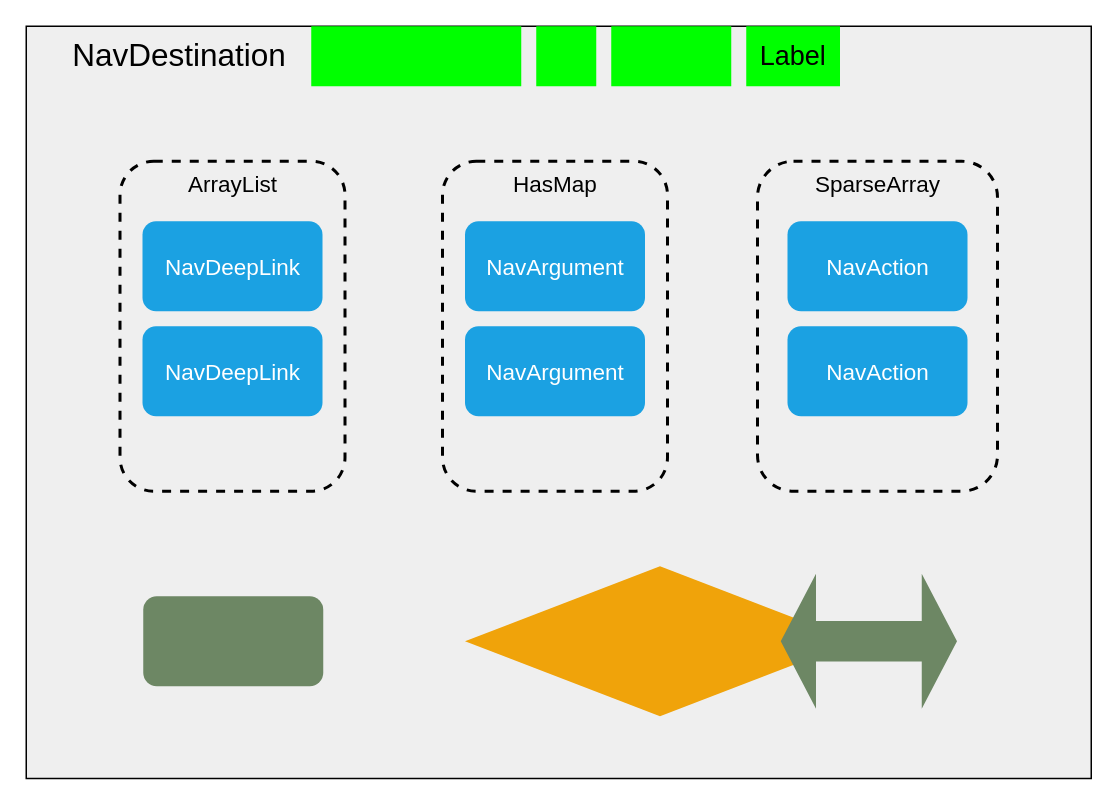
This 1118x806 diagram has some shape labels left out. Each missing label, with the centre of its shape:
"CompareTo" goes at (x=868, y=640).
"DeepLinkMatch" goes at (x=659, y=641).
"Id" goes at (x=566, y=56).
"IdName" goes at (x=670, y=56).
"NavGraph (Parent)" goes at (x=232, y=641).
"NavigatorName" goes at (x=415, y=56).
